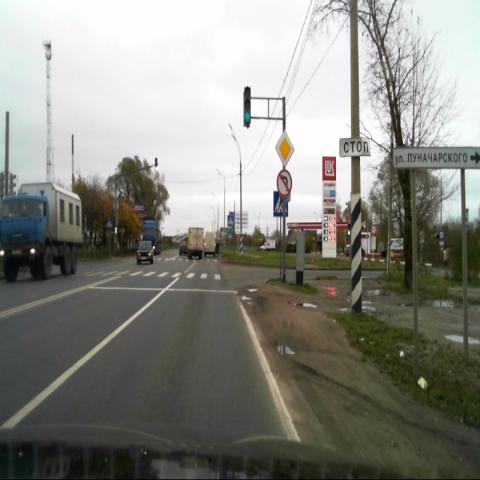3_18_2: (277, 169, 293, 196)
